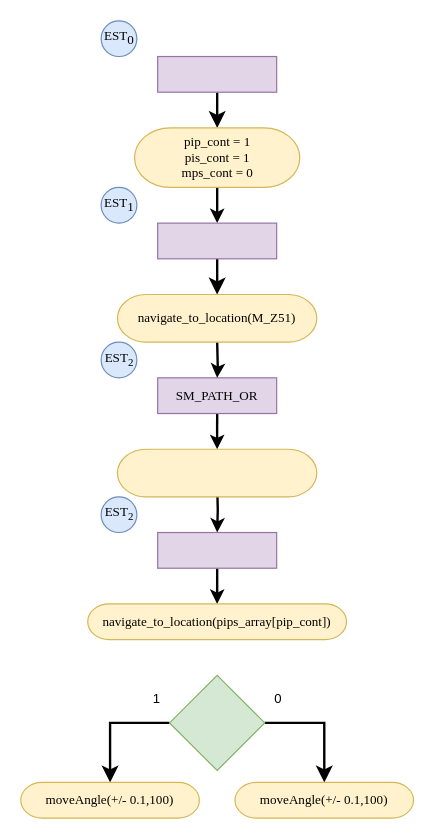
Some shapes in this 434 by 839 pixel diagram are drawn without their labels. Here are the shapes that lost their labels. From the top down, the box of each, then its label:
(156, 55, 277, 92): SM_INIT
(156, 222, 277, 259): SM_GO_HOME
(116, 448, 317, 497): navigate_to_location(M_Z72)
(156, 531, 277, 568): SM_GO_PIP
(168, 674, 265, 771): error < umbral
